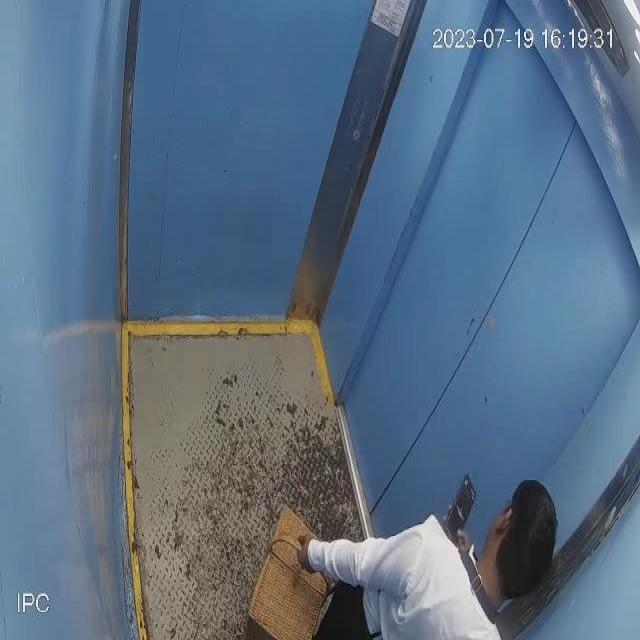person: (291, 476, 565, 640)
